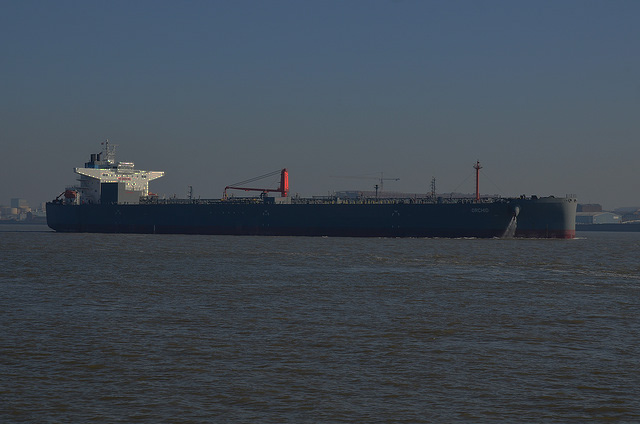tanker: (46, 143, 580, 238)
